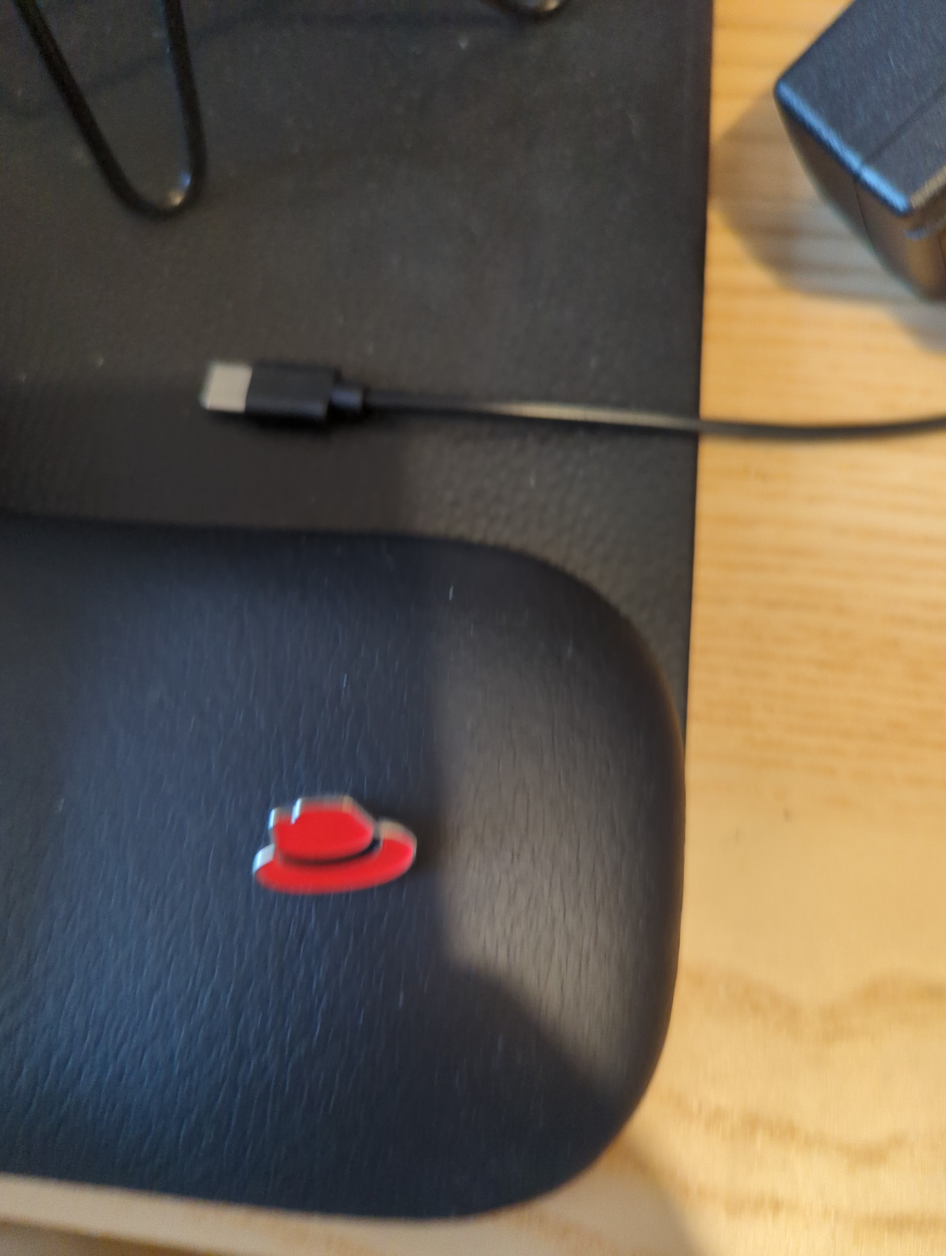Red-Hat: (219, 753, 466, 950)
